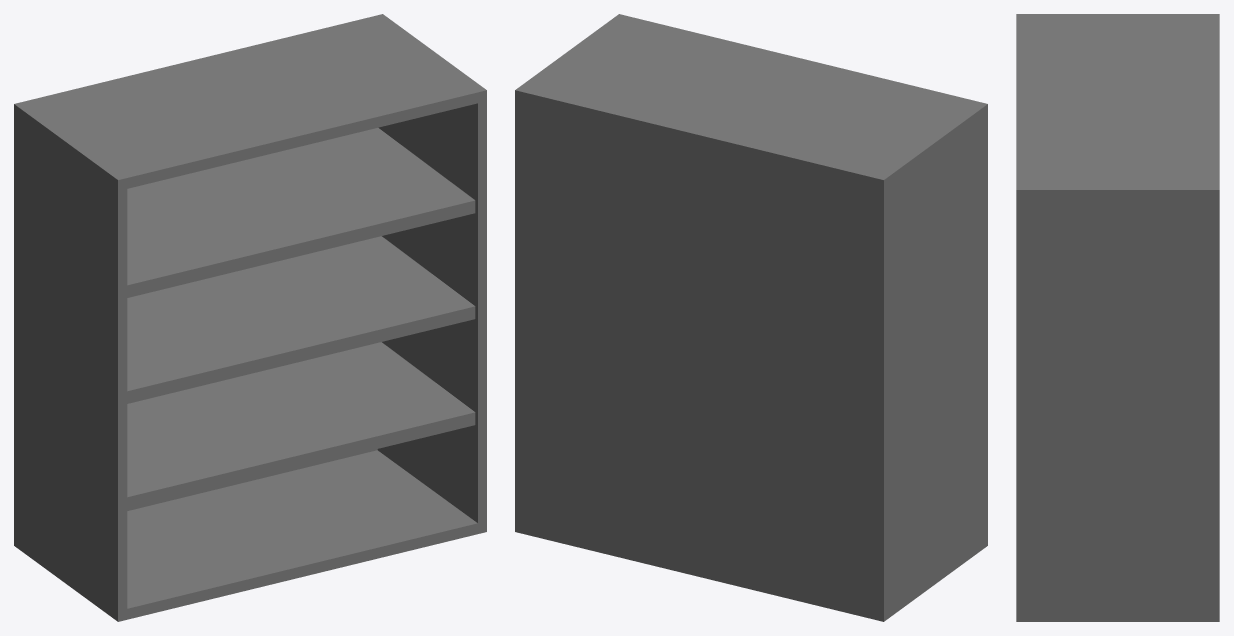
Rendered from SmallShelves.fbx.
3 renders of one model, left to right at view 1: azimuth 30°, elevation 25°; view 2: azimuth 150°, elevation 25°; view 3: azimuth 270°, elevation 25°, orthographic. The views are drawn at different scales.
Parts seen in each view (by area): view 1: Cube; view 2: Cube; view 3: Cube.
Boxes of the visible parts, x1,y1,x2,y2 form: Cube: [14, 14, 486, 621]; Cube: [515, 14, 987, 621]; Cube: [1016, 14, 1219, 621].
Bounding box in the file's own units: 599 × 685 × 293.
